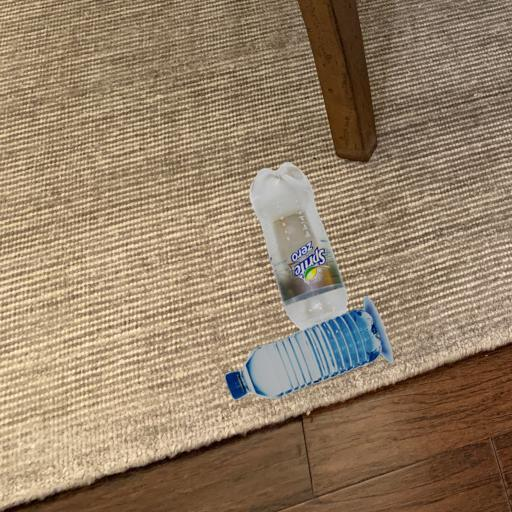bottle: (196, 157, 405, 413)
